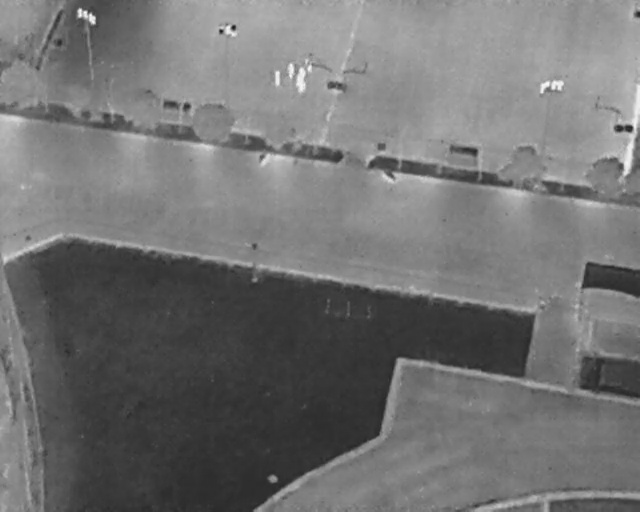Person: (305, 58, 314, 77), (298, 77, 306, 95), (287, 61, 295, 78), (274, 69, 281, 87), (298, 66, 306, 80), (295, 72, 302, 86)
